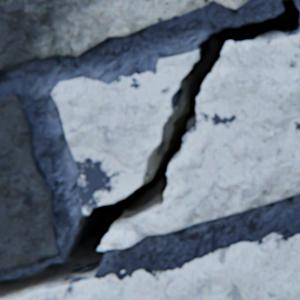brick: (0, 232, 299, 299), (0, 0, 248, 71), (0, 95, 59, 270)
broken_brick: (98, 31, 299, 249), (51, 49, 199, 214)
crack: (0, 0, 299, 297), (154, 69, 157, 76)
